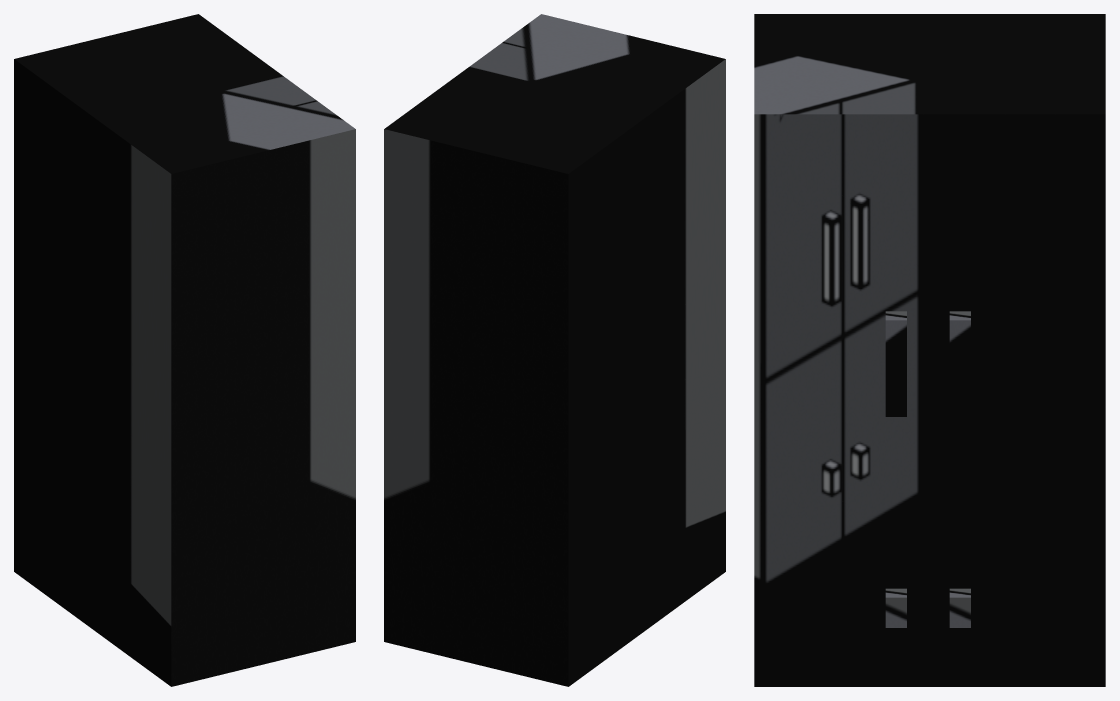
Rendered from Cupboard.fbx.
3 renders of one model, left to right at view 1: azimuth 30°, elevation 25°; view 2: azimuth 150°, elevation 25°; view 3: azimuth 270°, elevation 25°, orthographic. The views are drawn at different scales.
Visible parts, largest first — view 1: Cupboard; view 2: Cupboard; view 3: Cupboard.
Part boxes in pixels (x1=…): Cupboard: x1=14, y1=14, x2=355, y2=686; Cupboard: x1=384, y1=14, x2=725, y2=686; Cupboard: x1=754, y1=14, x2=1105, y2=686.
Size of the model in its own units: 122 by 298 by 165.
